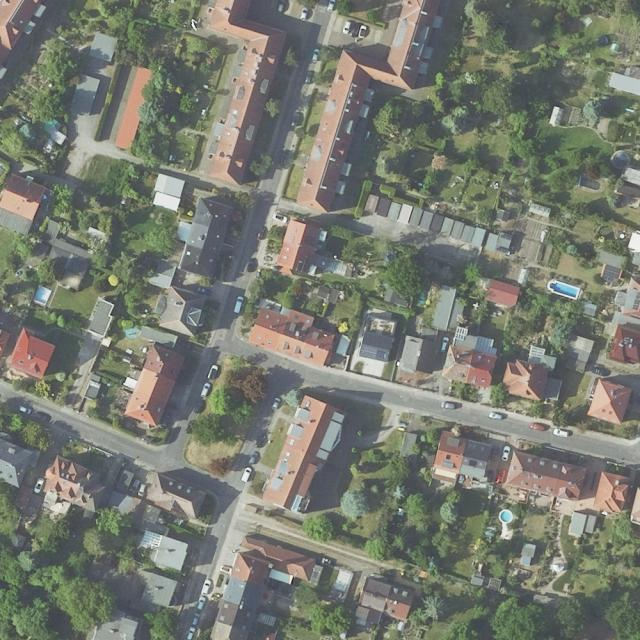PV: (600, 264, 621, 281)
